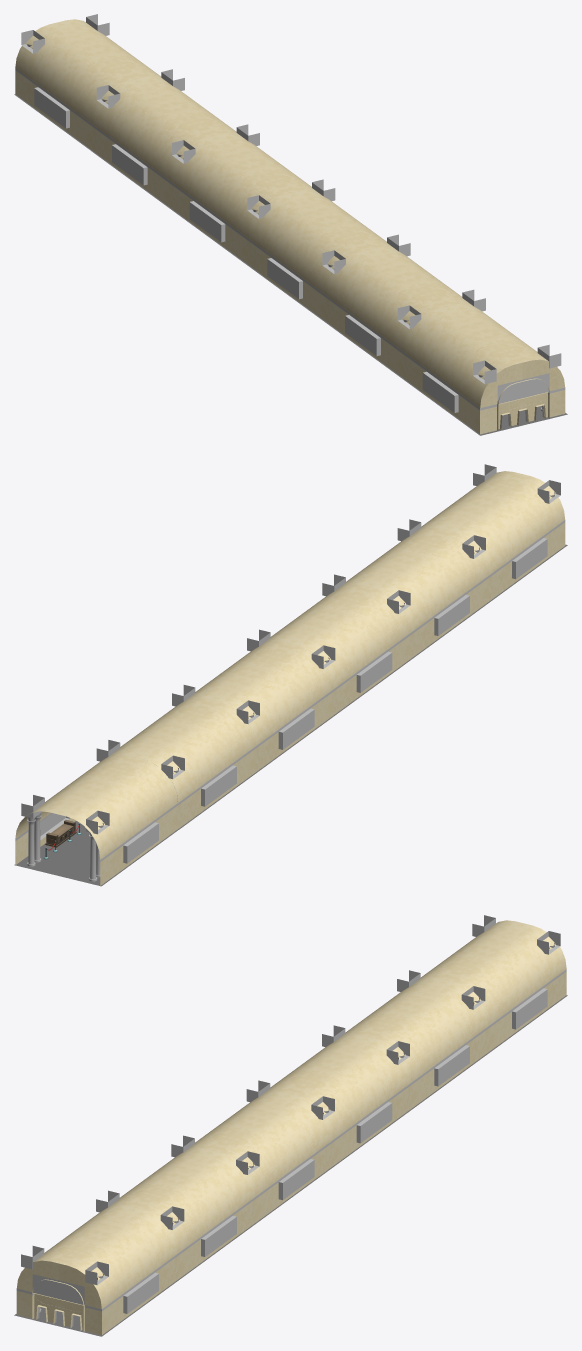
Rendered from Chunk01.fbx.
3 renders of one model, top to bottom at view 1: azimuth 30°, elevation 25°; view 2: azimuth 150°, elevation 25°; view 3: azimuth 330°, elevation 25°, orthographic.
Visible parts, largest first — view 1: Chunk01_Mesh; view 2: Chunk01_Mesh; view 3: Chunk01_Mesh.
Boxes of the visible parts, x1,y1,x2,y2 form: Chunk01_Mesh: (14, 14, 567, 435); Chunk01_Mesh: (14, 464, 567, 886); Chunk01_Mesh: (14, 915, 567, 1336).
Bounding box in the file's own units: 6920 × 4420 × 60000.
